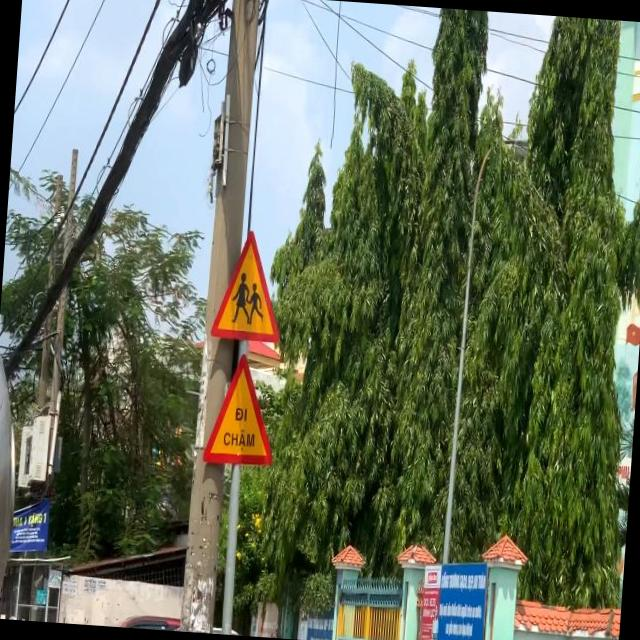W-225: (208, 226, 284, 342)
W-245a: (200, 351, 280, 466)
